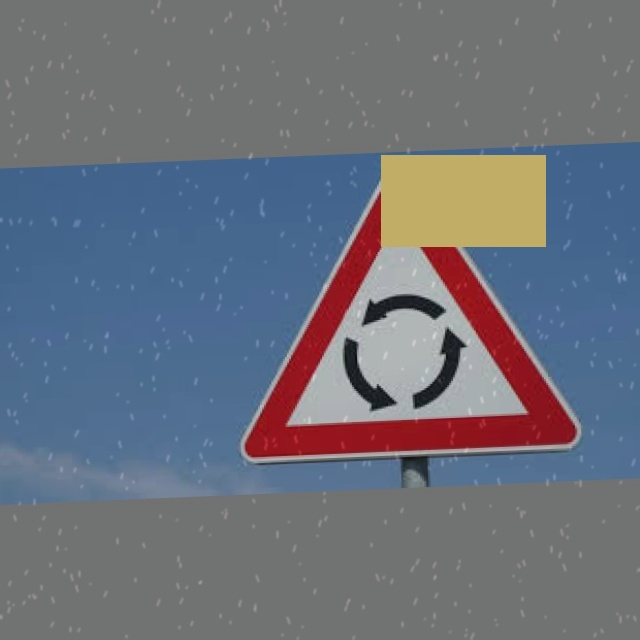Round_About: (235, 153, 568, 461)
